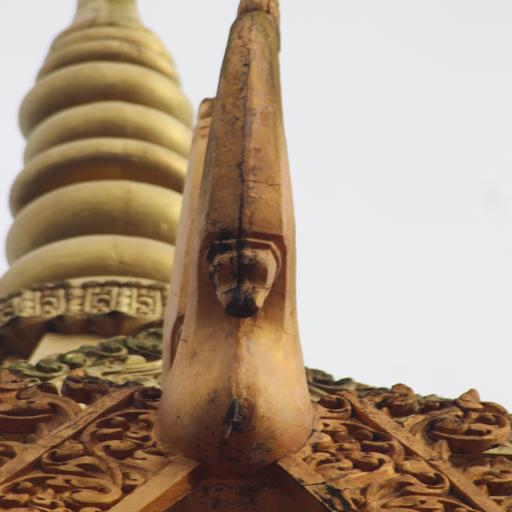la: (324, 413, 456, 512), (24, 407, 145, 512), (415, 384, 509, 454)
